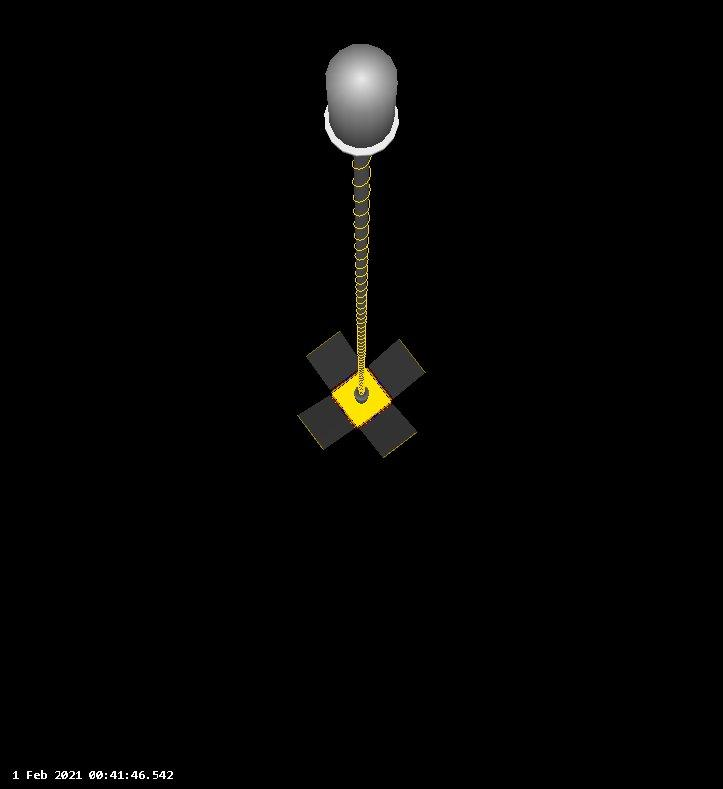antenna: (321, 40, 403, 406)
body: (326, 365, 395, 431)
solar: (368, 337, 428, 401), (305, 330, 364, 394), (296, 394, 357, 450), (360, 402, 418, 460)
